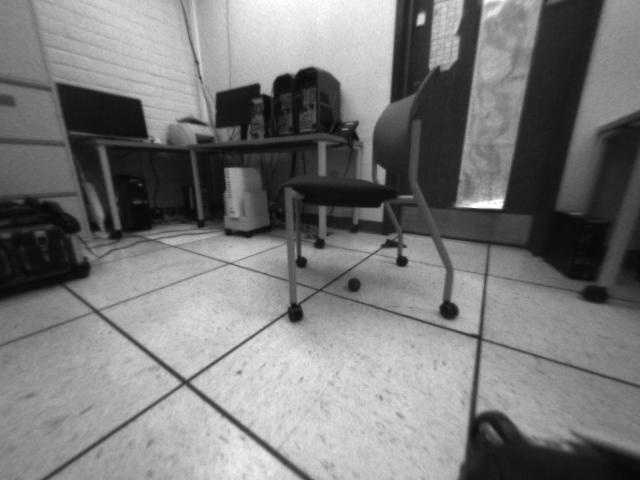dogtoy: (344, 269, 366, 297)
